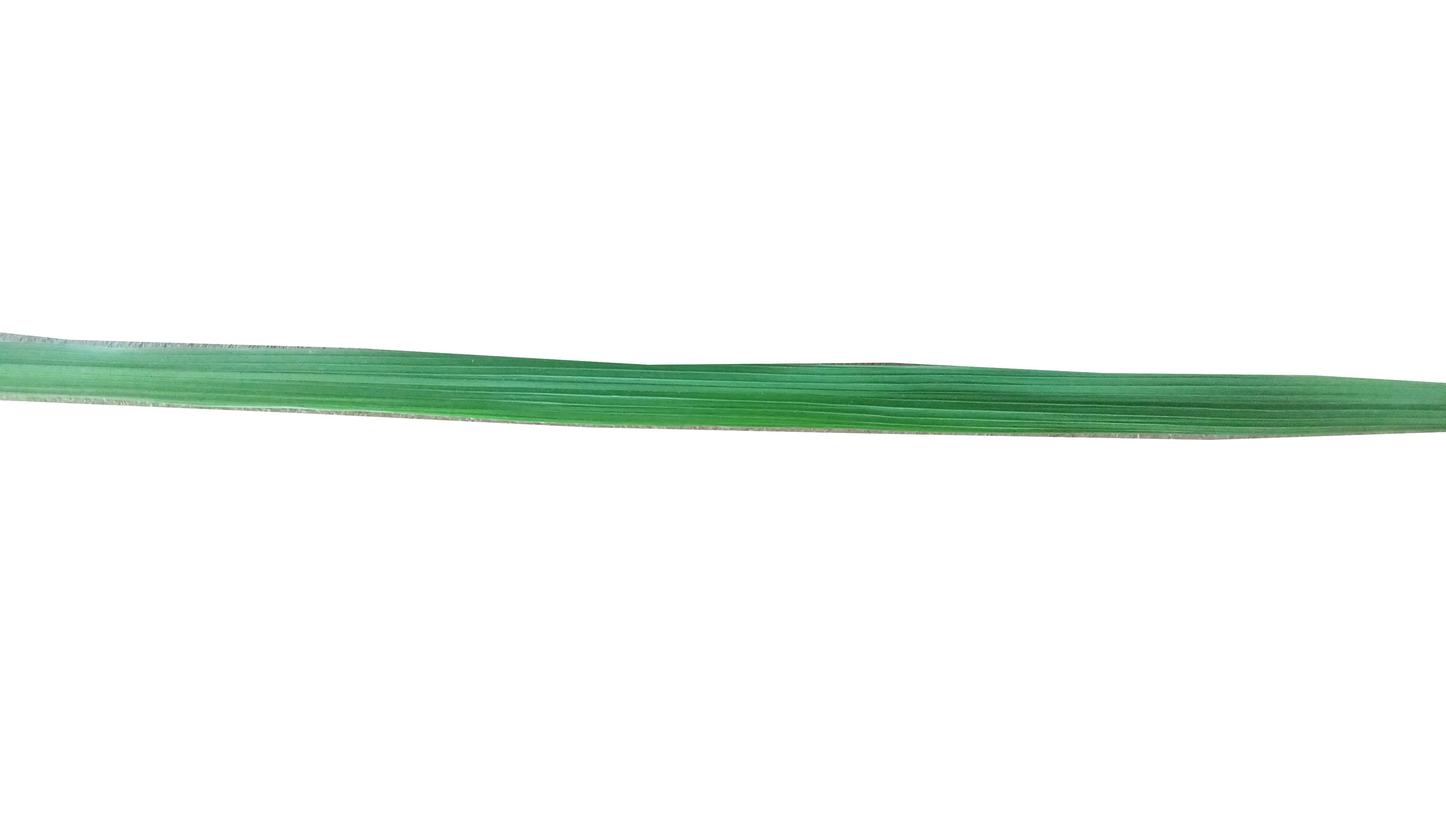Healthy: (0, 334, 1446, 442)
